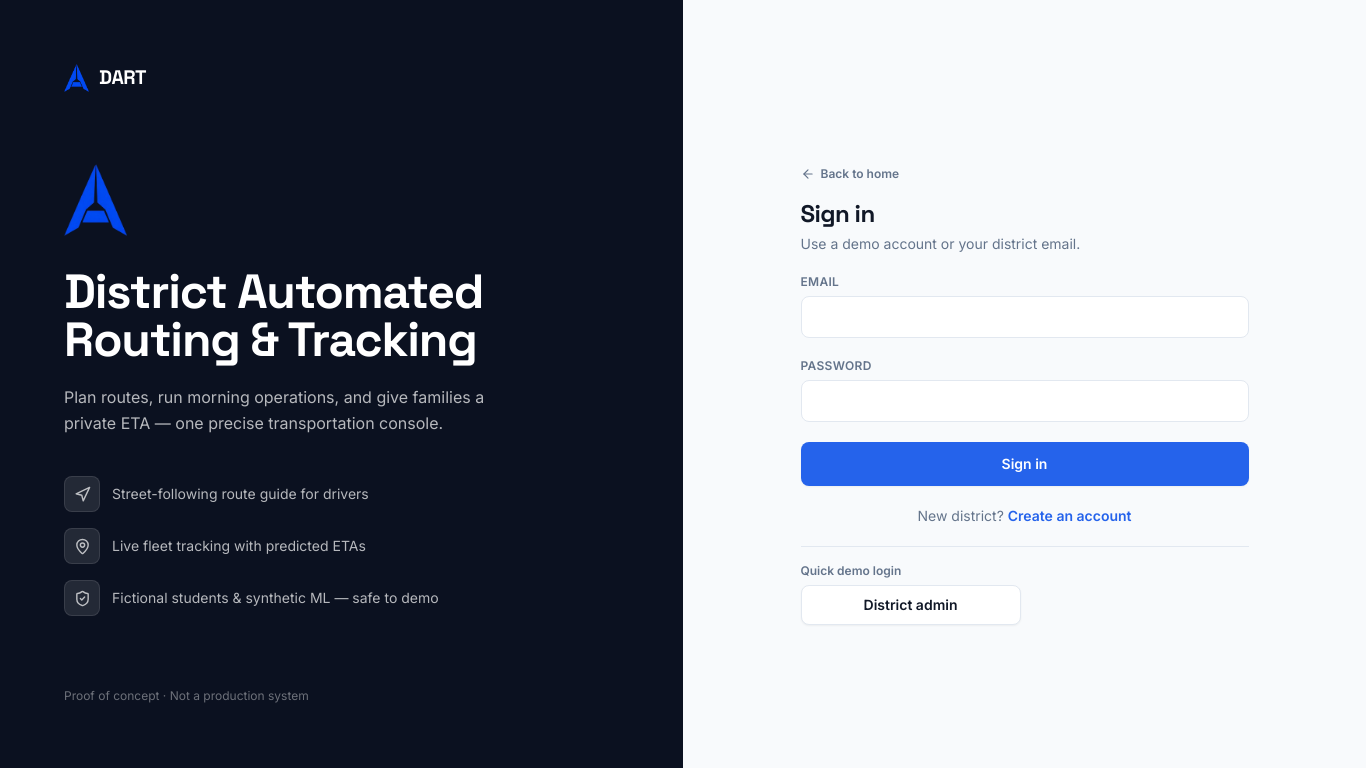
Test: auth › shows error on failed login
Type "x@y.com" into the field labelled "Email" at coordinates (1024, 317), box top-left (800, 296), bottom-right (1248, 338)
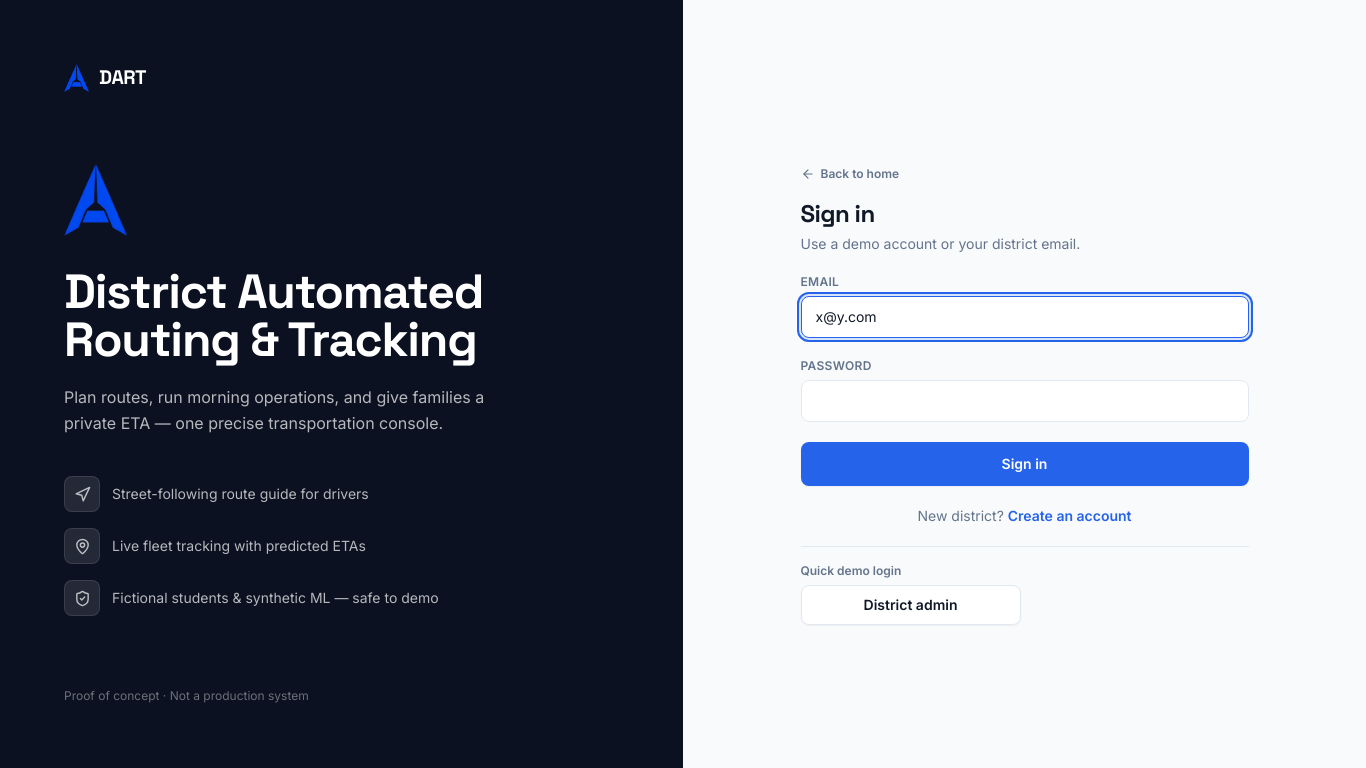
Type "badpassw0rd" into the password field labelled "Password" at coordinates (1024, 401), box top-left (800, 380), bottom-right (1248, 422)
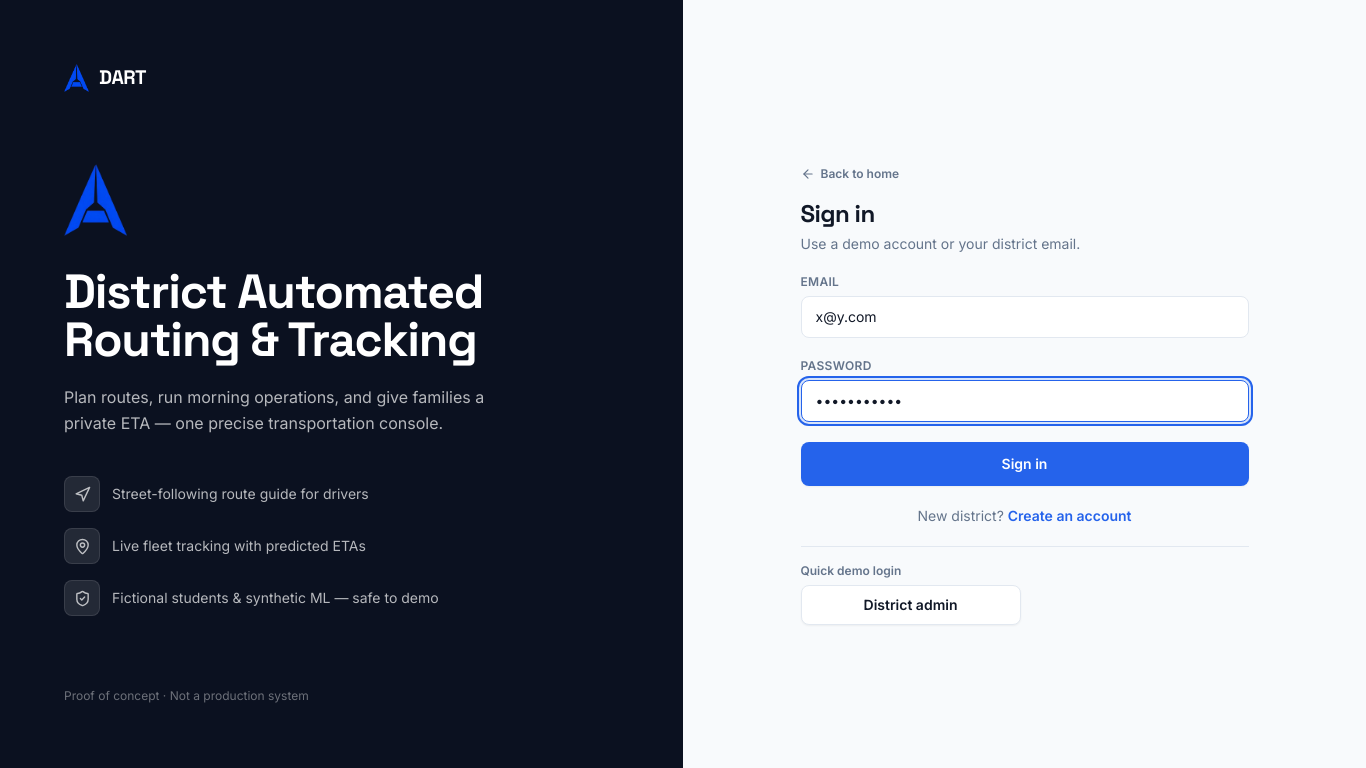
Click the button "Sign in" at coordinates (1024, 464), box top-left (800, 442), bottom-right (1248, 486)
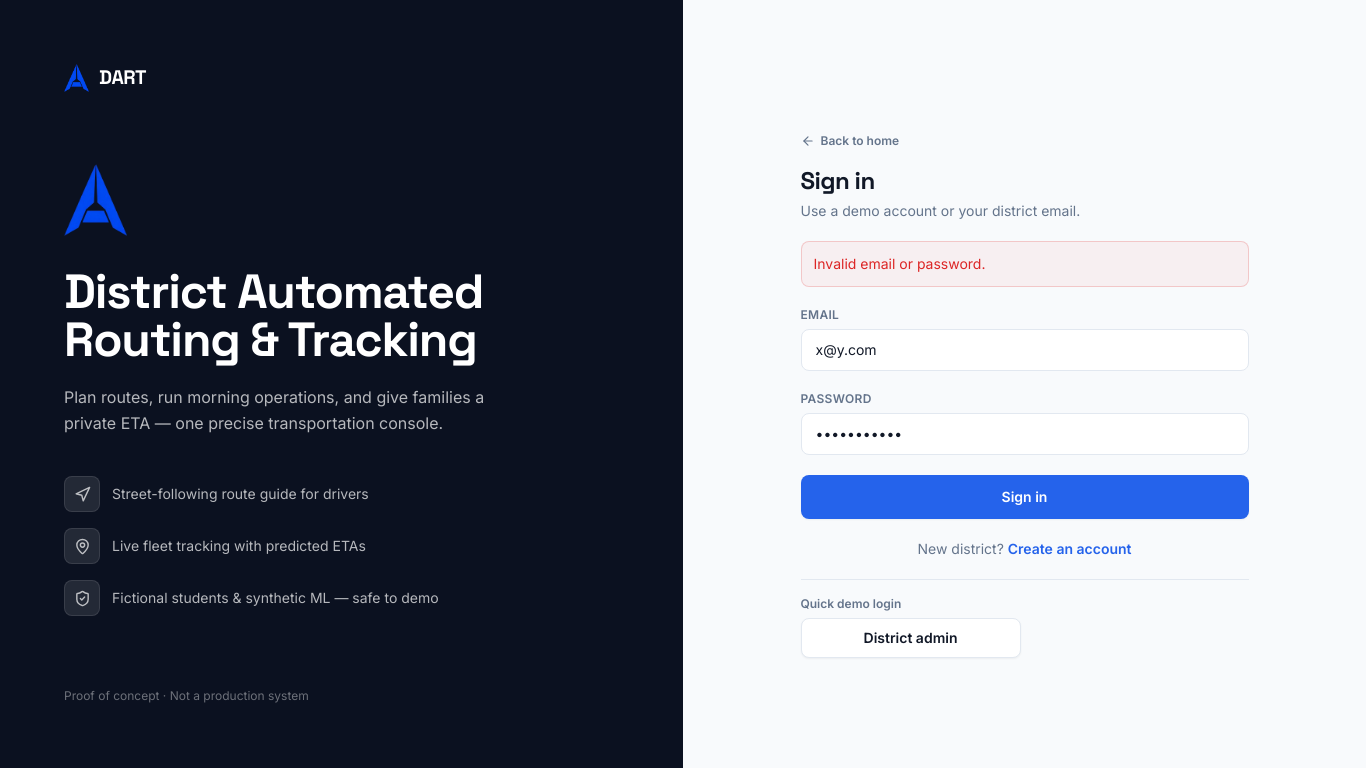
expect the message reads "Invalid email or password.": met, box top-left (814, 255), bottom-right (986, 272)
